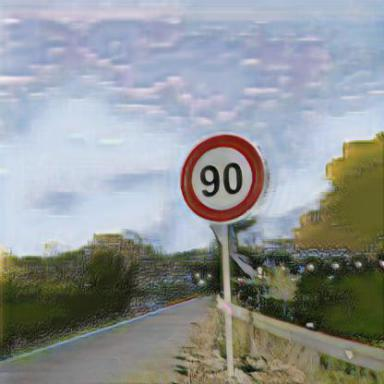Speed_limit_90: (186, 137, 263, 221)
